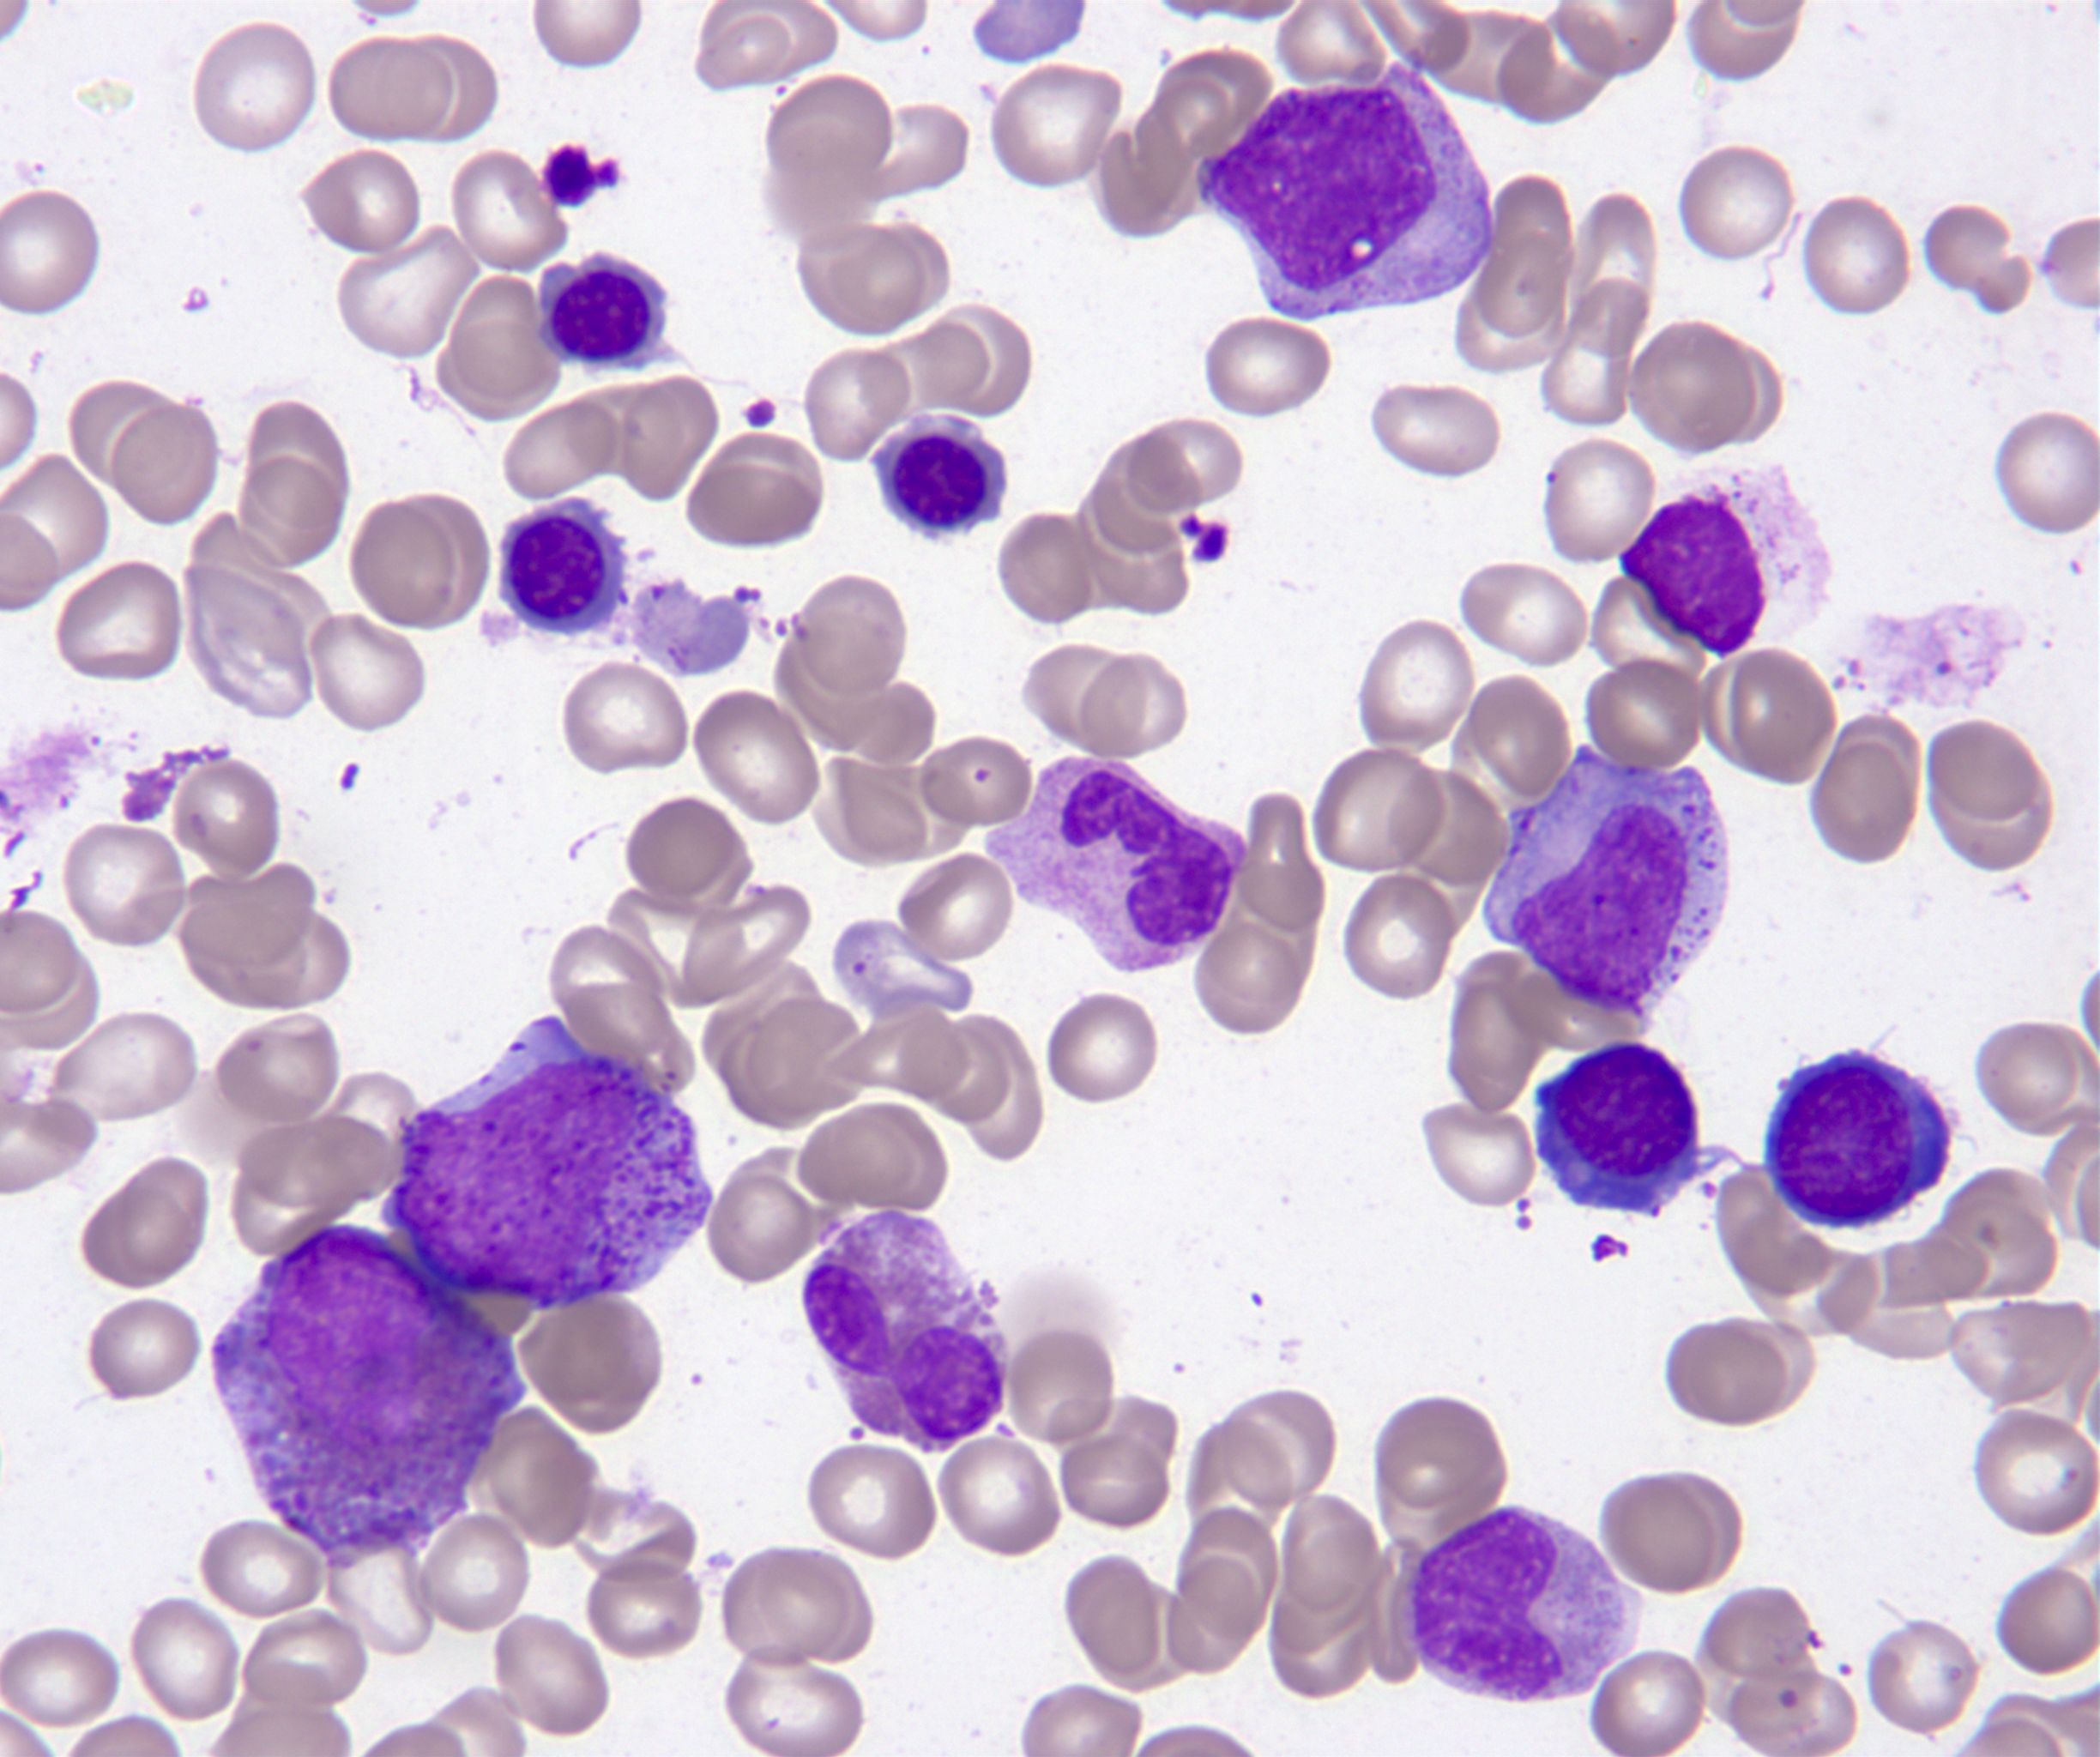2: (380, 1017, 712, 1307)
23: (1535, 1042, 1730, 1216), (1769, 1049, 1952, 1230)
24: (867, 414, 1005, 541), (495, 501, 626, 633), (541, 255, 684, 375)
3: (1197, 61, 1491, 323), (1481, 749, 1730, 1021)
4: (1415, 1509, 1640, 1699)
5: (989, 757, 1245, 972)
E1: (213, 1227, 525, 1570)
E4: (806, 1211, 1010, 1453)
x: (1619, 466, 1833, 656)
